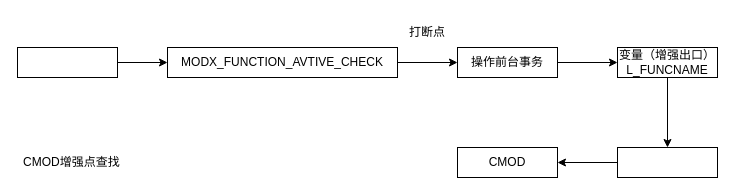
Image size: 735x195. Some labels were removed from this diagram. Each missing label, with the centre of its shape:
"SE16N MODSAP" goes at point (667, 162).
"SE37" goes at point (67, 62).
